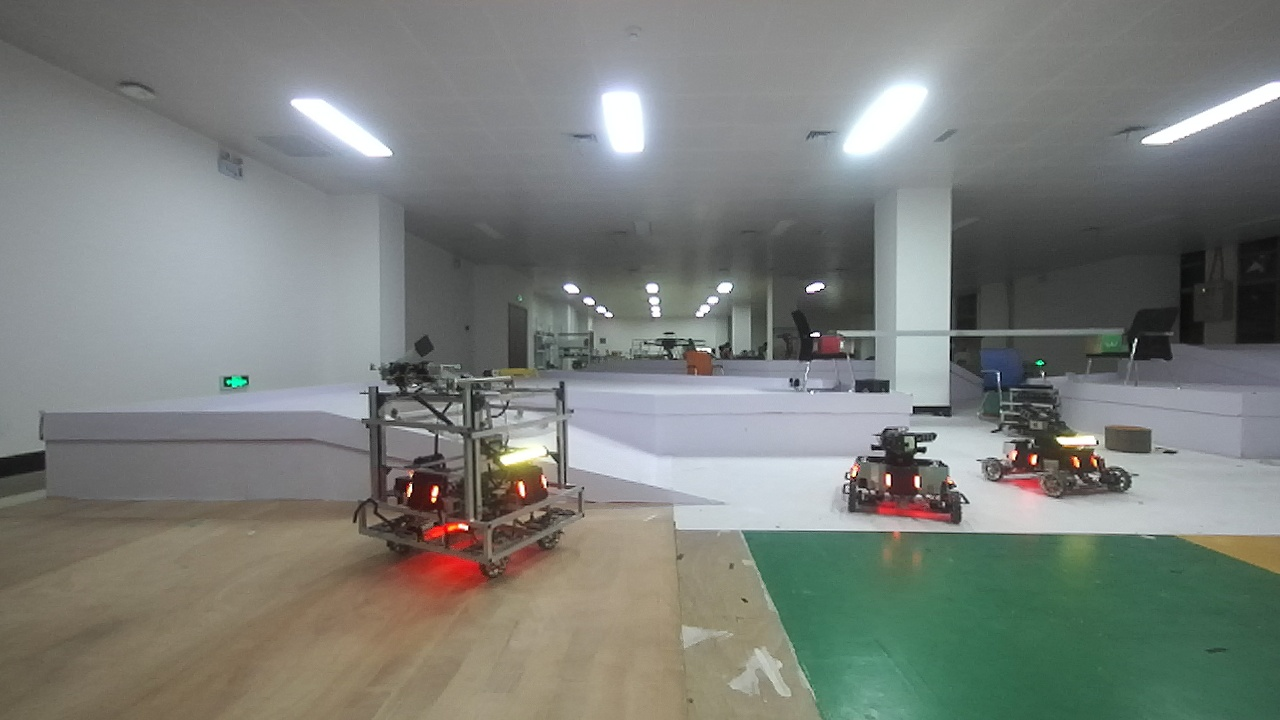car: (350, 351, 603, 577), (982, 380, 1155, 533), (836, 422, 970, 540)
